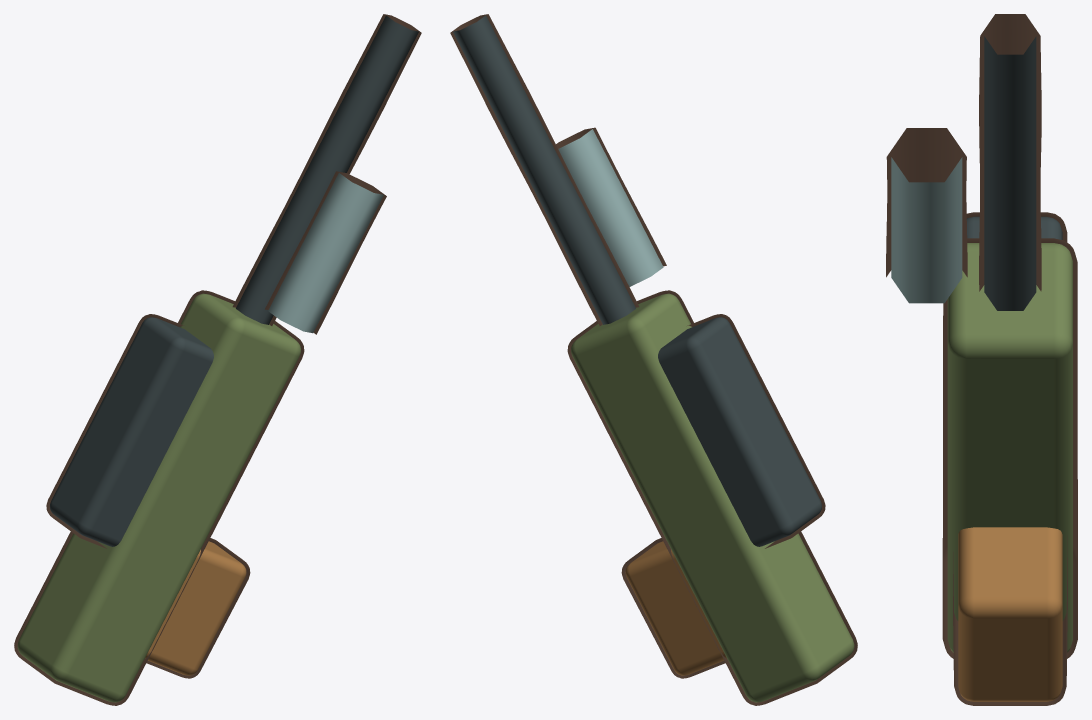
Rendered from prop_30076.glb.
3 renders of one model, left to right at view 1: azimuth 30°, elevation 25°; view 2: azimuth 150°, elevation 25°; view 3: azimuth 270°, elevation 25°, orthographic. The views are drawn at different scales.
Parts seen in each view (by area): view 1: prop_30076; view 2: prop_30076; view 3: prop_30076.
Part boxes in pixels (bbox=[...]): prop_30076: bbox=[14, 14, 421, 705]; prop_30076: bbox=[450, 14, 857, 705]; prop_30076: bbox=[886, 14, 1077, 705].
Bounding box in the file's own units: 0.5527 × 0.83 × 0.1708.
